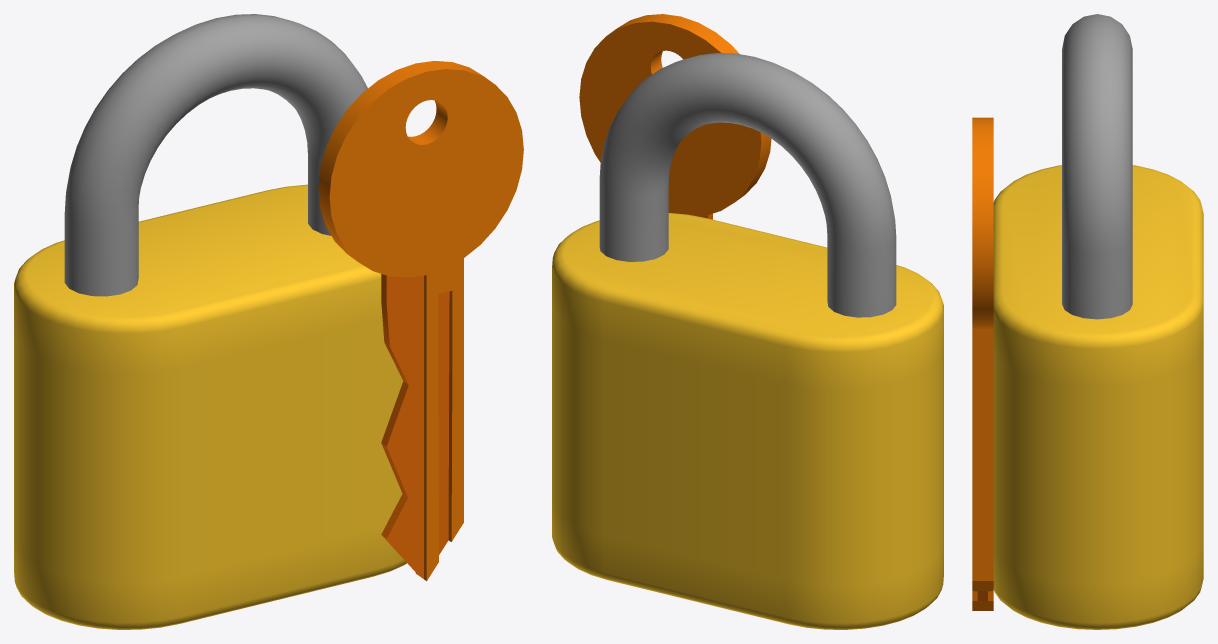
File: locked_with_key.glb
3 views of the same model, side by side, from view 1: azimuth 30°, elevation 25°; view 2: azimuth 150°, elevation 25°; view 3: azimuth 270°, elevation 25° (orthographic). The views are drawn at different scales.
Visible parts, largest first — view 1: Circle.2581, Circle.2580; view 2: Circle.2581, Circle.2580; view 3: Circle.2581, Circle.2580.
Boxes of the visible parts, x1,y1,x2,y2 form: Circle.2581: (14,14,406,629); Circle.2580: (318,61,523,581); Circle.2581: (552,53,943,629); Circle.2580: (579,14,771,219); Circle.2581: (993,14,1203,629); Circle.2580: (972,117,993,610).
Bounding box in the file's own units: 1.77 × 2.17 × 0.8703.
1 material, 1 textured.
